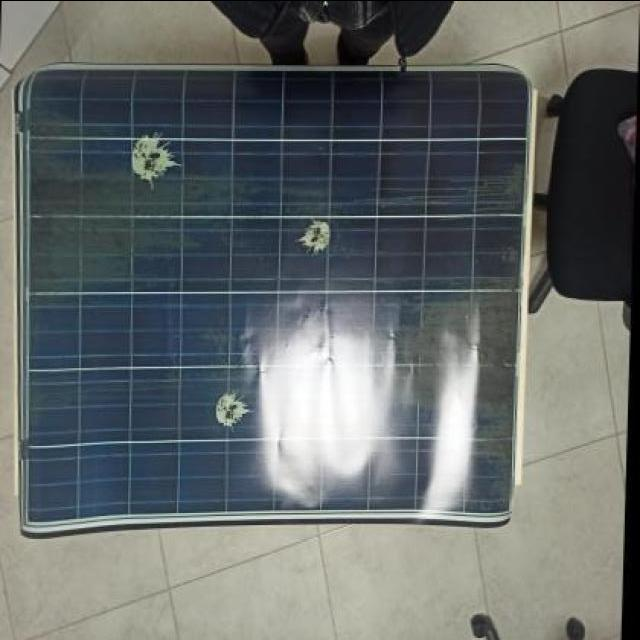soiled: (11, 62, 528, 530)
